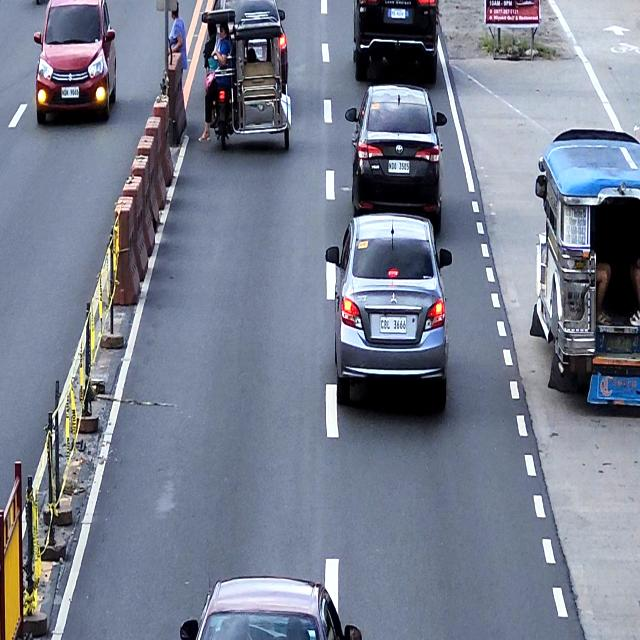Car: (326, 213, 453, 415), (346, 85, 447, 233), (181, 576, 362, 640), (33, 0, 117, 124), (353, 0, 439, 79), (212, 0, 289, 84)
Jeep: (536, 128, 640, 414)
License-Plate: (606, 334, 634, 356), (380, 315, 408, 334), (388, 159, 410, 175), (61, 86, 80, 98), (390, 8, 406, 20)
Tricycle: (201, 9, 291, 154)
